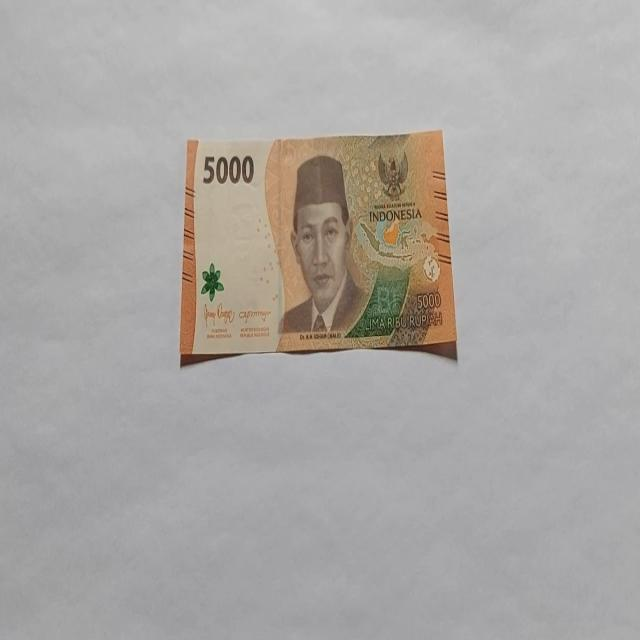lima ribu rupiah: (179, 128, 458, 366), (278, 154, 368, 336)
